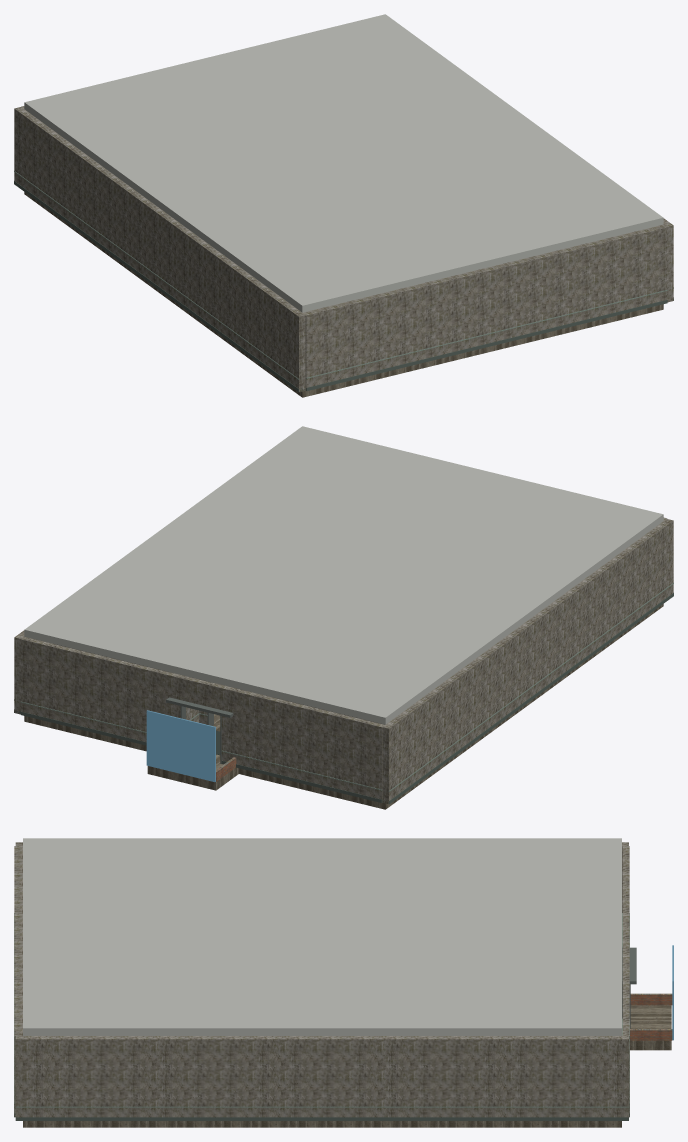
Rendered from school_1f_exit.glb.
3 views of the same model, one above another, from view 1: azimuth 30°, elevation 25°; view 2: azimuth 150°, elevation 25°; view 3: azimuth 270°, elevation 25° (orthographic). The views are drawn at different scales.
Visible parts, largest first — view 1: Stage Ceiling / Ceiling, Wall z 16.22 -12 / Plaster, Wall x -12.22 -16.38 / Plaster, Stage Floor / Terrazzo, Wall z 16.22 -12 / Baseboard, Wall x -12.22 -16.38 / Baseboard, Wall z 16.22 -12 / Enamel, Wall x 12.22 -16.38 / Plaster; view 2: Stage Ceiling / Ceiling, Wall x -12.22 -16.38 / Plaster, Wall z -16.22 -12 / Plaster, Wall z -16.22 1.35 / Plaster, Details 0 -3 / Night, Stage Floor / Terrazzo, Wall x -12.22 -16.38 / Baseboard, Wall z -16.22 -1.35 / Plaster, Details 0 -3 / Terrazzo, Wall z -16.22 -12 / Baseboard, Wall x 12.22 -16.38 / Plaster; view 3: Stage Ceiling / Ceiling, Wall x 12.22 -16.38 / Plaster, Stage Floor / Terrazzo, Wall x 12.22 -16.38 / Baseboard, Wall z 16.22 -12 / Plaster, Details 0 -3 / Terrazzo, Wall x 12.22 -16.38 / Enamel, Wall z -16.22 1.35 / Plaster, Wall z -16.22 -12 / Plaster, Details -1 -3 / Brick, Details 0 -3 / Brick, Details 0 -3 / Frame.
Boxes of the visible parts, x1,y1,x2,y2 form: Stage Ceiling / Ceiling: (24,14,663,312); Wall z 16.22 -12 / Plaster: (303,224,667,390); Wall x -12.22 -16.38 / Plaster: (14,107,305,392); Stage Floor / Terrazzo: (24,192,663,397); Wall z 16.22 -12 / Baseboard: (306,300,667,391); Wall x -12.22 -16.38 / Baseboard: (14,181,304,392); Wall z 16.22 -12 / Enamel: (306,290,667,378); Wall x 12.22 -16.38 / Plaster: (663,218,673,302); Stage Ceiling / Ceiling: (24,426,663,724); Wall x -12.22 -16.38 / Plaster: (382,519,673,804); Wall z -16.22 -12 / Plaster: (221,686,384,799); Wall z -16.22 1.35 / Plaster: (21,637,183,741); Details 0 -3 / Night: (146,710,215,781); Stage Floor / Terrazzo: (24,604,663,809); Wall x -12.22 -16.38 / Baseboard: (382,593,673,804); Wall z -16.22 -1.35 / Plaster: (181,676,224,709); Details 0 -3 / Terrazzo: (147,759,239,790); Wall z -16.22 -12 / Baseboard: (221,760,382,802); Wall x 12.22 -16.38 / Plaster: (14,630,53,714); Stage Ceiling / Ceiling: (23,838,621,1035); Wall x 12.22 -16.38 / Plaster: (15,1035,628,1117); Stage Floor / Terrazzo: (23,1121,621,1127); Wall x 12.22 -16.38 / Baseboard: (15,1117,628,1120); Wall z 16.22 -12 / Plaster: (14,846,22,1117); Details 0 -3 / Terrazzo: (630,1005,671,1050); Wall x 12.22 -16.38 / Enamel: (15,1106,628,1107); Wall z -16.22 1.35 / Plaster: (622,951,629,1117); Wall z -16.22 -12 / Plaster: (622,846,629,930); Details -1 -3 / Brick: (630,993,672,1005); Details 0 -3 / Brick: (630,1029,672,1040); Details 0 -3 / Frame: (622,947,636,1028).
Bounding box in the file's own units: 24.94 × 5.84 × 35.25.
22 materials, 5 textured.
